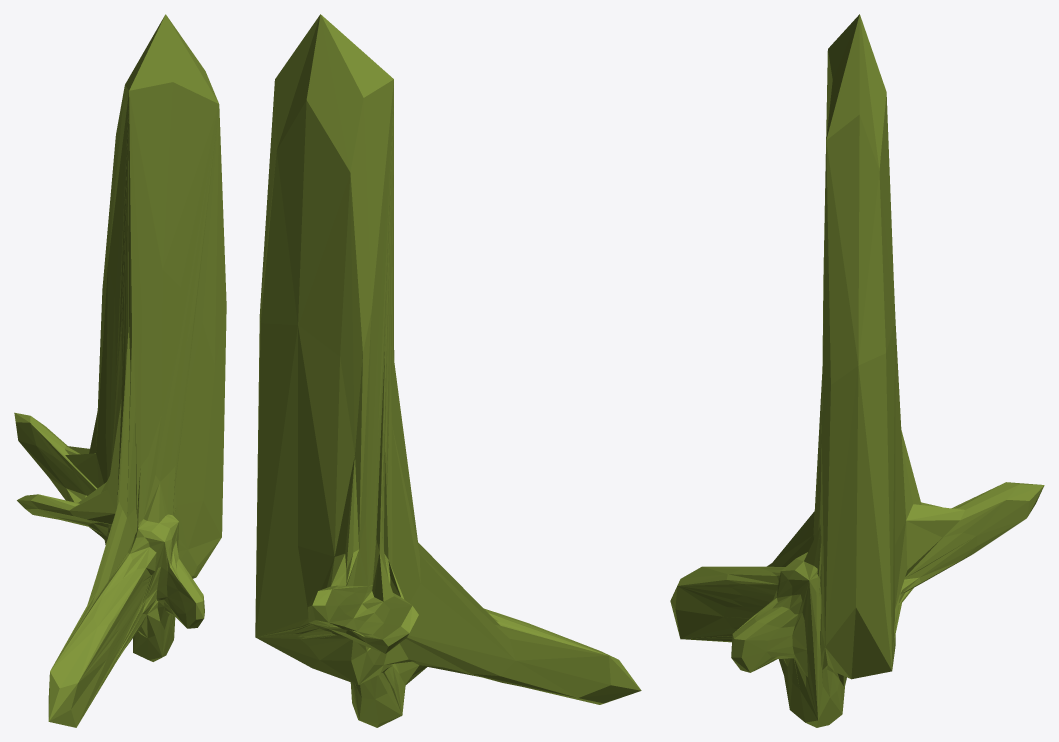
3 renders of one model, left to right at view 1: azimuth 30°, elevation 25°; view 2: azimuth 150°, elevation 25°; view 3: azimuth 270°, elevation 25°, orthographic. The views are drawn at different scales.
Parts seen in each view (by area): view 1: 255_Cube.1045; view 2: 255_Cube.1045; view 3: 255_Cube.1045.
Boxes of the visible parts, bbox=[...] form: 255_Cube.1045: bbox=[14, 14, 226, 727]; 255_Cube.1045: bbox=[255, 14, 641, 727]; 255_Cube.1045: bbox=[670, 14, 1044, 727].
Bounding box in the file's own units: 5.68 × 13.53 × 6.28.
